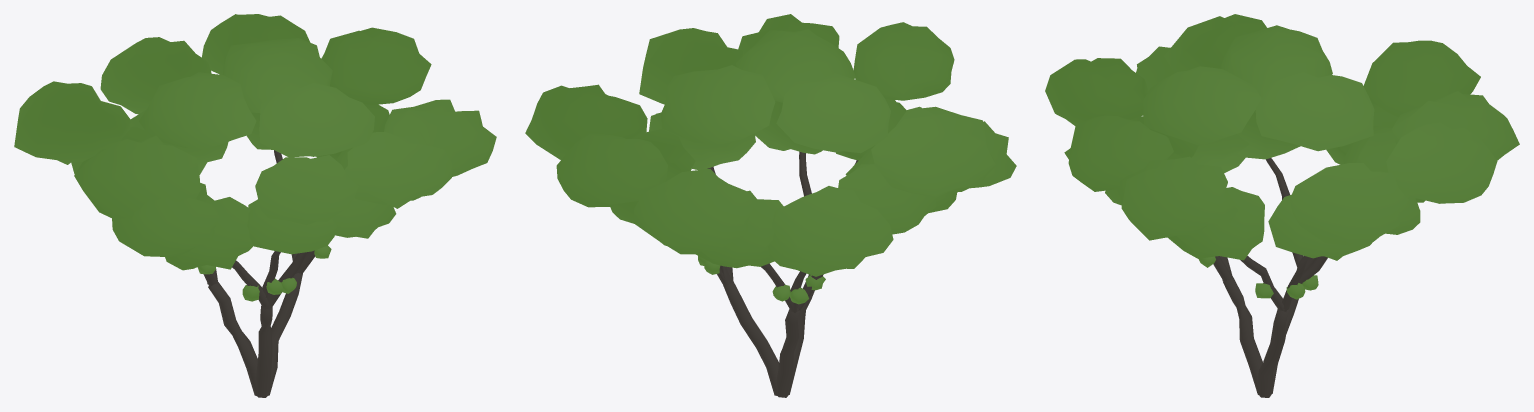
File: Blender_Redbud_1.glb
3 renders of one model, left to right at view 1: azimuth 30°, elevation 25°; view 2: azimuth 150°, elevation 25°; view 3: azimuth 270°, elevation 25°, orthographic. The views are drawn at different scales.
Parts seen in each view (by area): view 1: Blender_Redbud_1; view 2: Blender_Redbud_1; view 3: Blender_Redbud_1.
Part boxes in pixels (x1=…): Blender_Redbud_1: x1=14, y1=14, x2=496, y2=397; Blender_Redbud_1: x1=525, y1=14, x2=1016, y2=397; Blender_Redbud_1: x1=1045, y1=14, x2=1519, y2=397.
Bounding box in the file's own units: 9.12 × 7.2 × 9.25.
